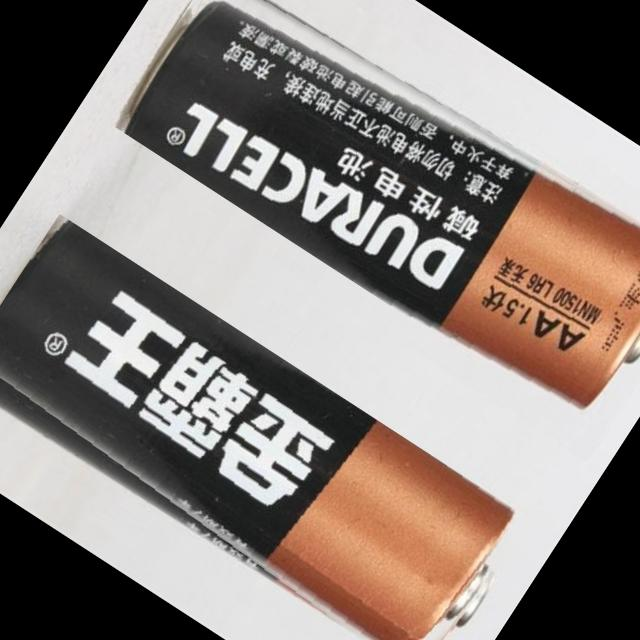Hazard: (109, 0, 640, 434), (0, 213, 535, 640)
